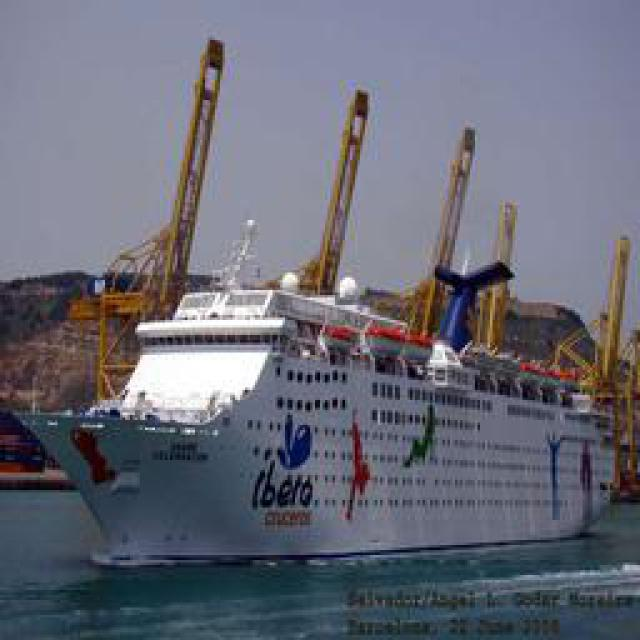Ship: (25, 175, 620, 580)
